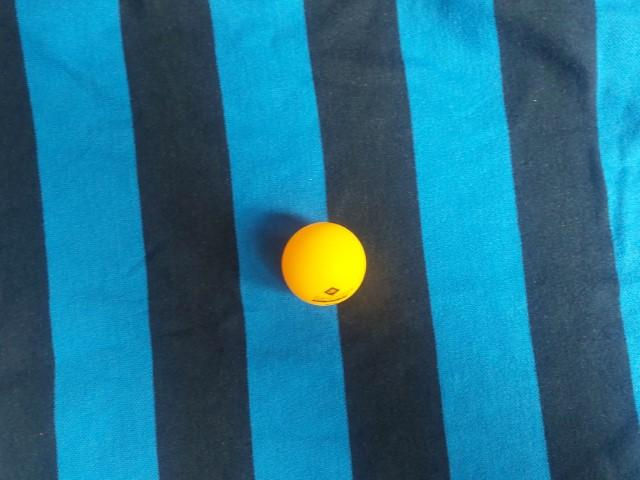oball: (267, 167, 365, 264)
